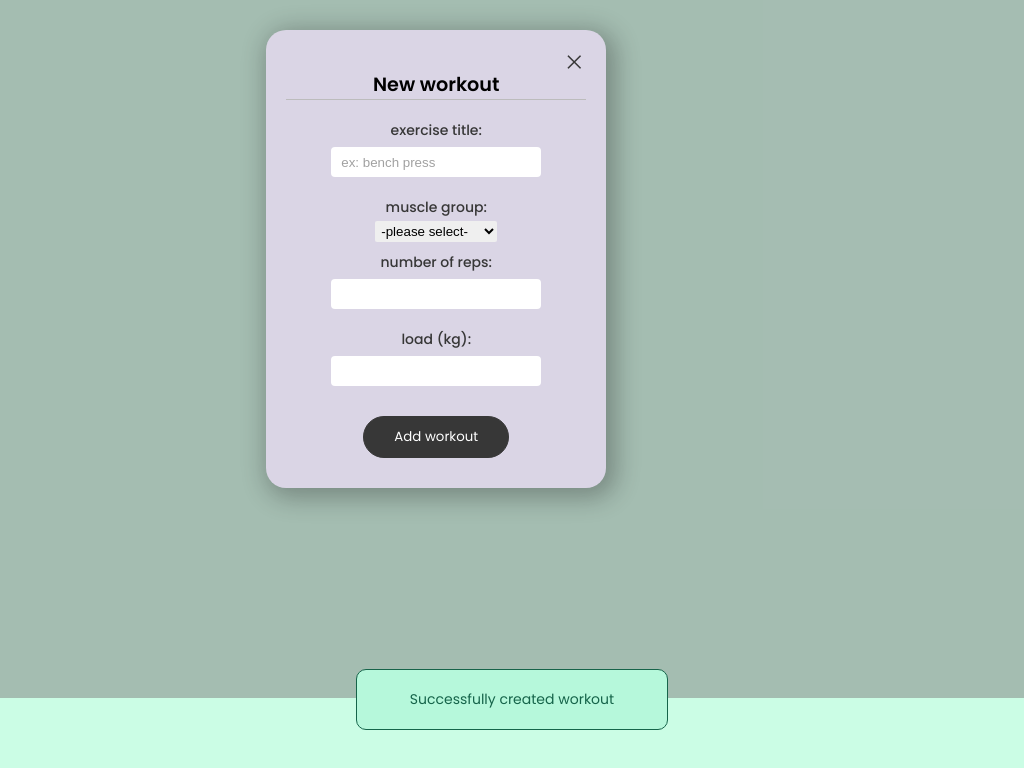
Test: <WorkoutForm/> › should respond with success if input is valid and user authorized
In the field with test id "title": (436, 162) [331,147,541,177], type "arm curls"
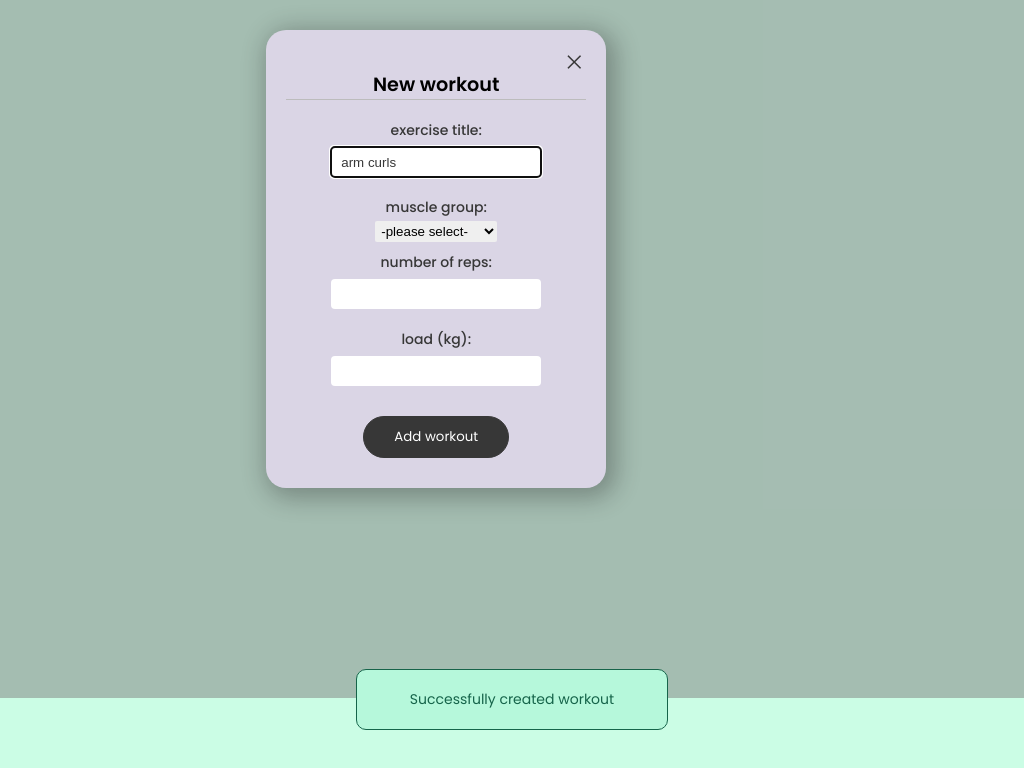
Select "biceps" in the dropdown with test id "muscle_group": (436, 232) [375,221,497,242]
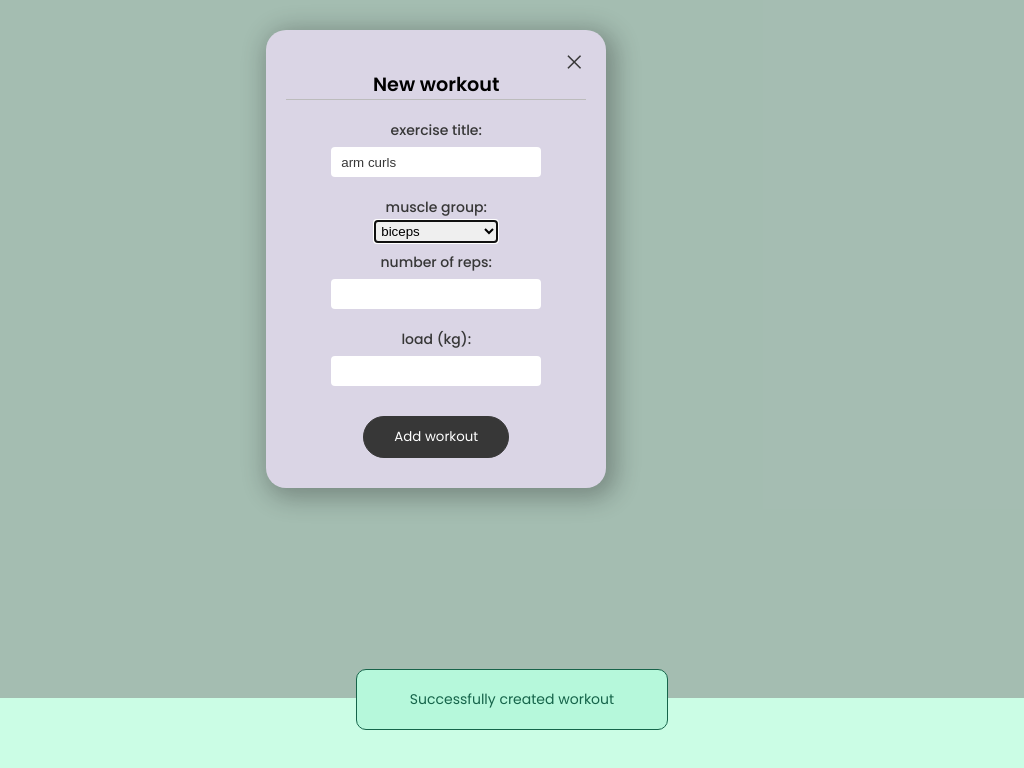
In the number field with test id "reps": (436, 294) [331,279,541,309], type "33"
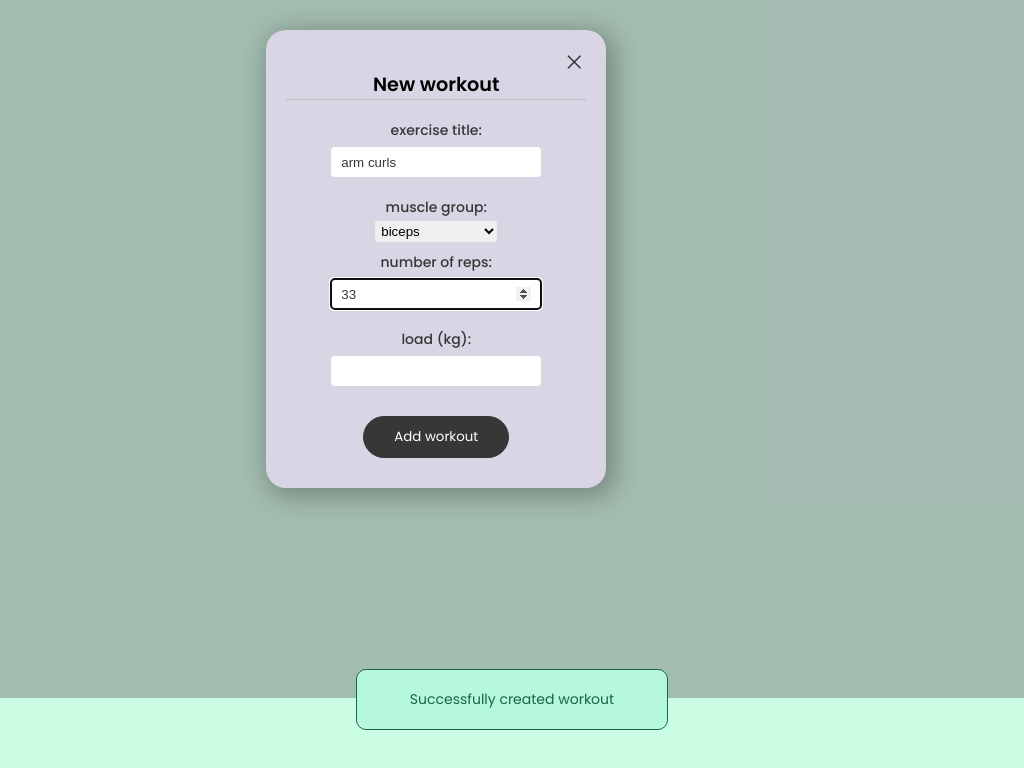
In the number field with test id "load": (436, 371) [331,356,541,386], type "20"
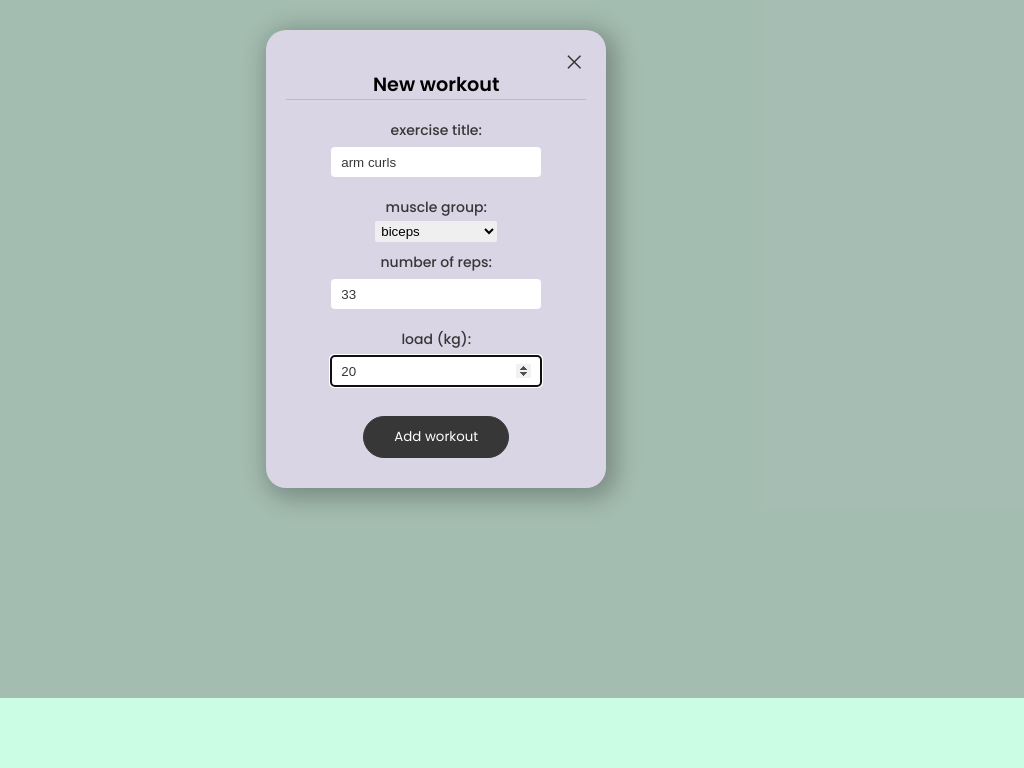
Click the button "Add workout": (436, 437) [363,416,509,458]
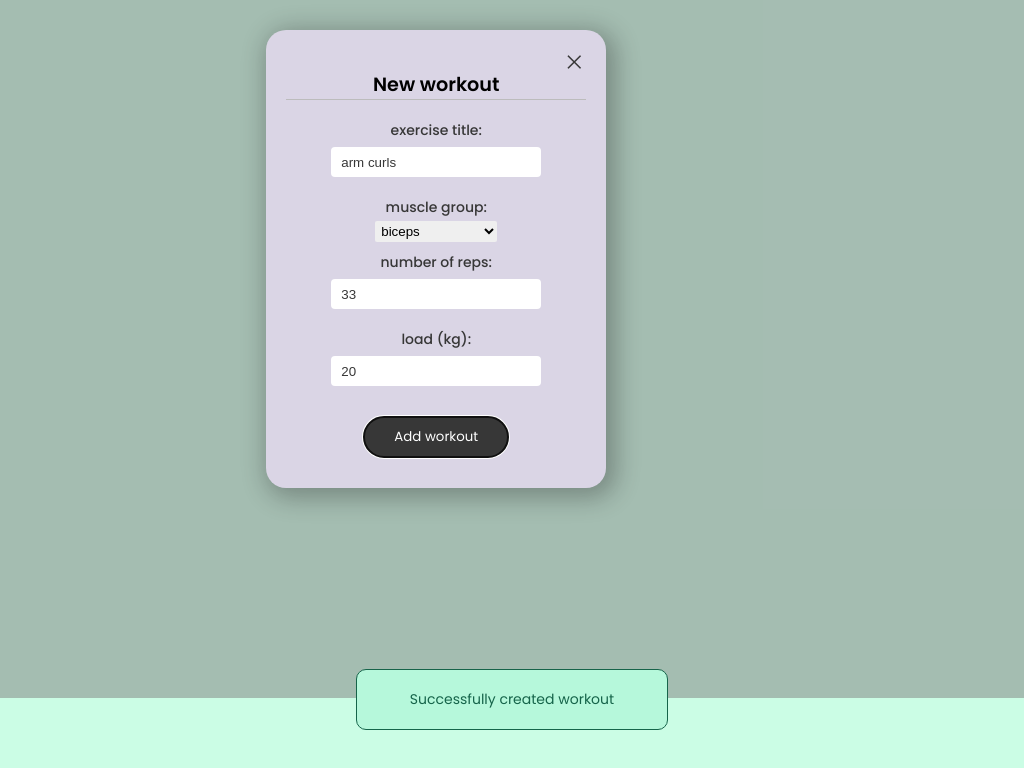
Expected: the message "Successfully created workout" is shown, [356,669,668,730]
Expected: the message reads "Successfully created workout", [410,689,614,709]
